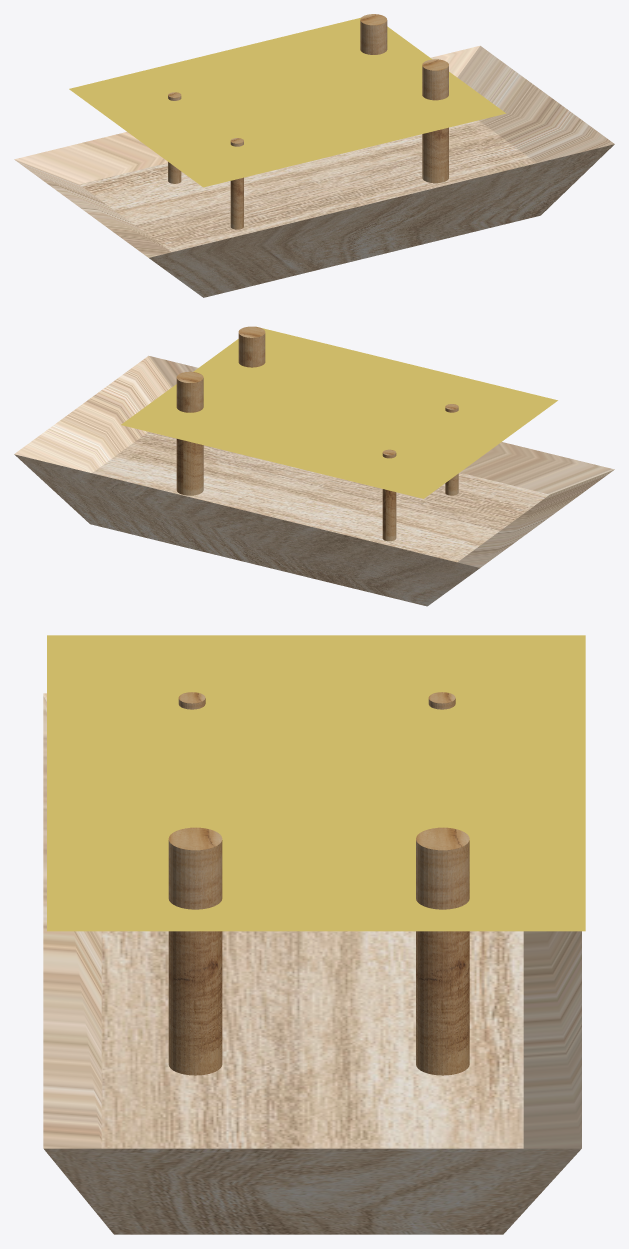
The model's file is boat.glb.
The picture shows the model from 3 angles, top to bottom: view 1: azimuth 30°, elevation 25°; view 2: azimuth 150°, elevation 25°; view 3: azimuth 270°, elevation 25°; orthographic projection. The views are drawn at different scales.
Visible parts, largest first — view 1: Boat, Roof, Cylinder, Cylinder.001, Cylinder.003; view 2: Boat, Roof, Cylinder.001, Cylinder, Cylinder.002; view 3: Roof, Boat, Cylinder, Cylinder.001.
Part boxes in pixels (x1,y1,x2,y2): Boat: (14, 45, 614, 297); Roof: (69, 17, 505, 187); Cylinder: (422, 59, 448, 183); Cylinder.001: (360, 14, 387, 54); Cylinder.003: (230, 138, 243, 229); Boat: (14, 355, 614, 606); Roof: (121, 326, 557, 498); Cylinder.001: (176, 371, 203, 495); Cylinder: (238, 326, 265, 367); Cylinder.002: (382, 449, 396, 541); Roof: (47, 635, 585, 931); Boat: (43, 693, 581, 1234); Cylinder: (168, 827, 222, 1075); Cylinder.001: (416, 827, 469, 1075).
Size of the model in its own units: 4 by 1.28 by 2.01.
3 materials, 2 textured.
